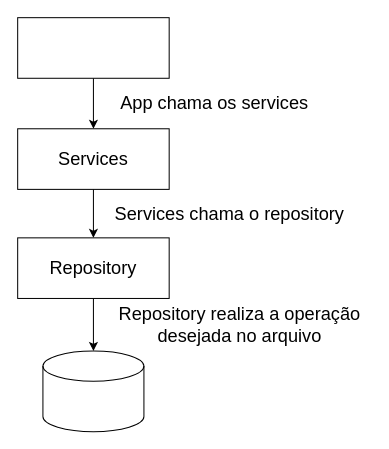
Image size: 389x449. Some labels were removed from this diagram. The centre of each missing label's shape, as x and y in pixels:
"App" goes at (x=93, y=47).
"Arquivo.txt" goes at (x=93, y=391).
